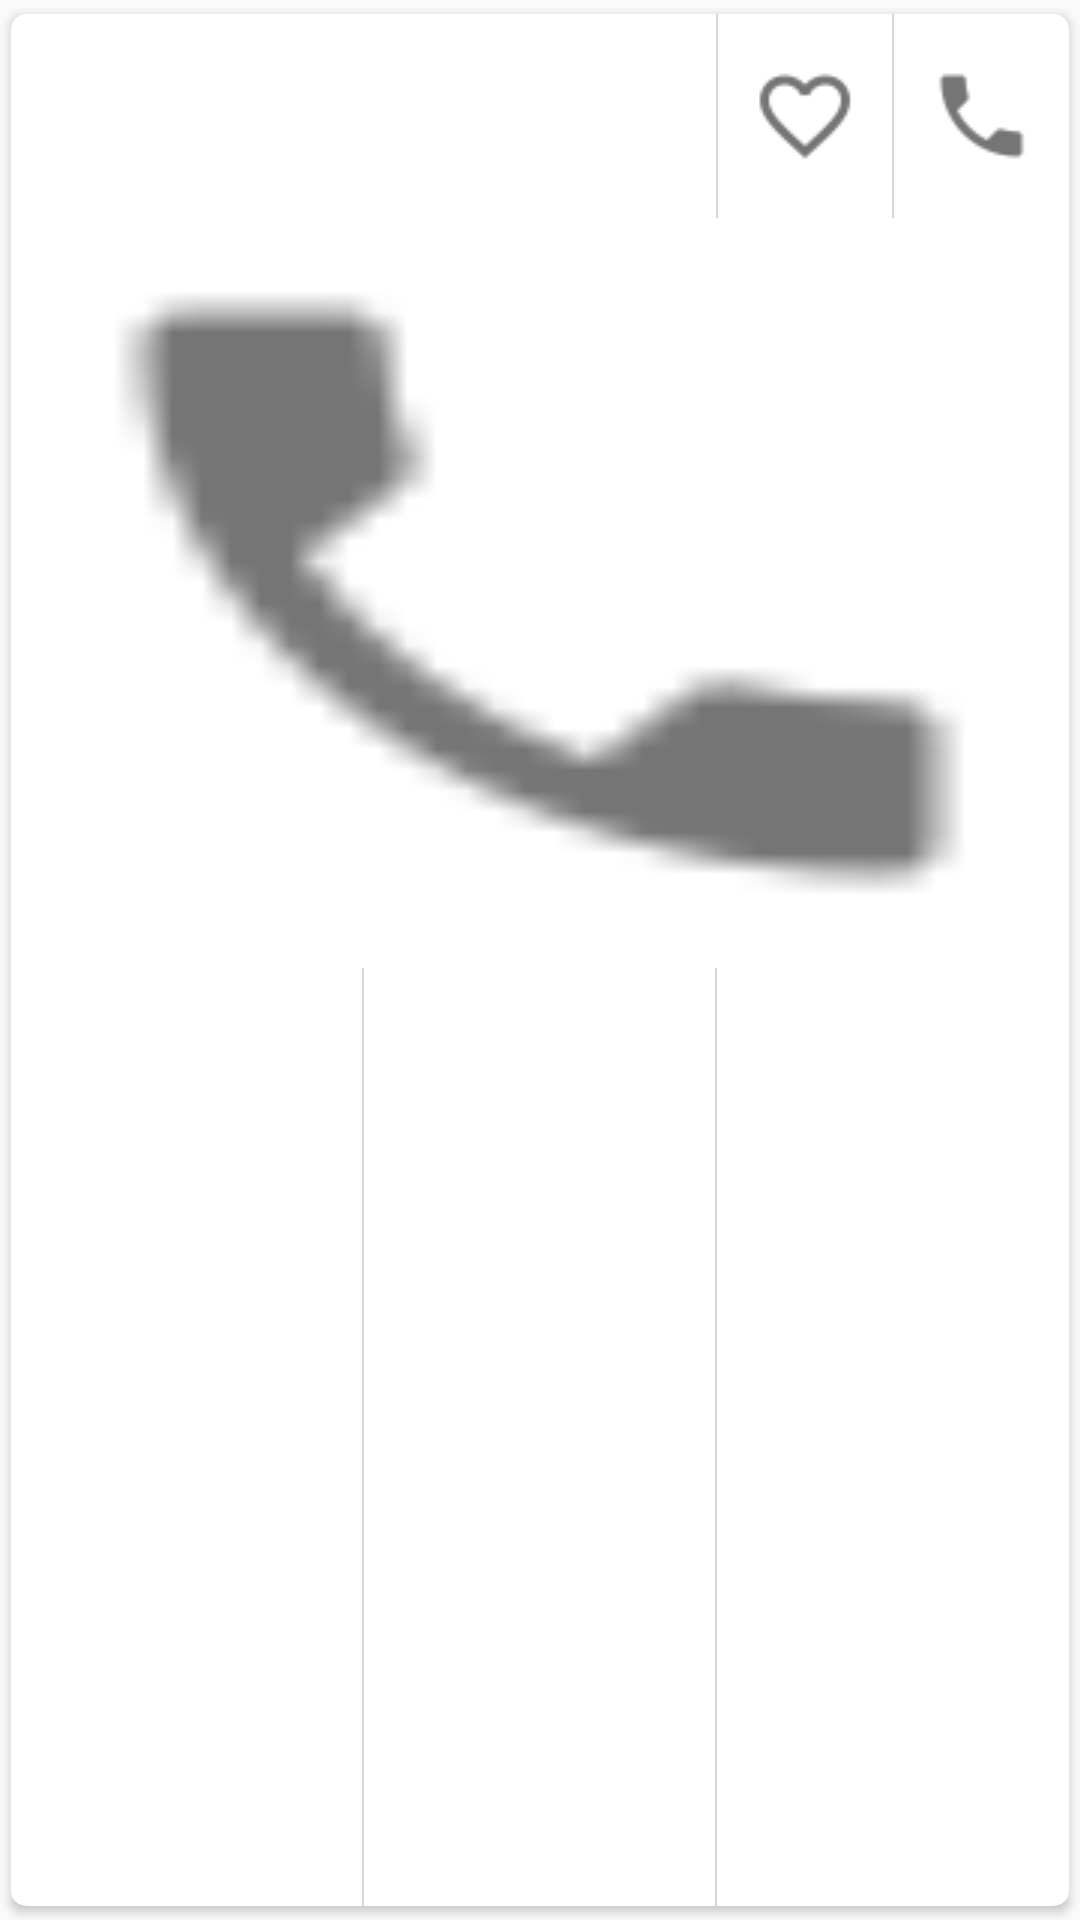

Icons on this 1080px x 1920px Android screen, each with its box as (x1, y1, x2, y2):
heart: (759, 74, 851, 159)
